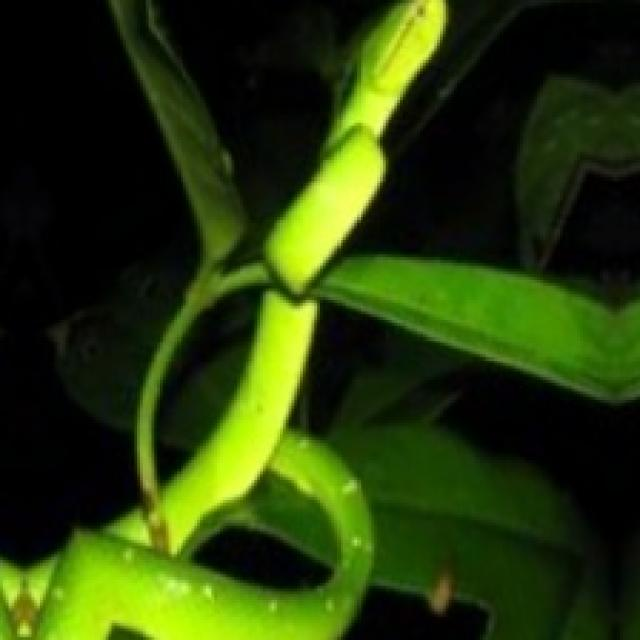north ph temple pitviper: (0, 0, 443, 637)
